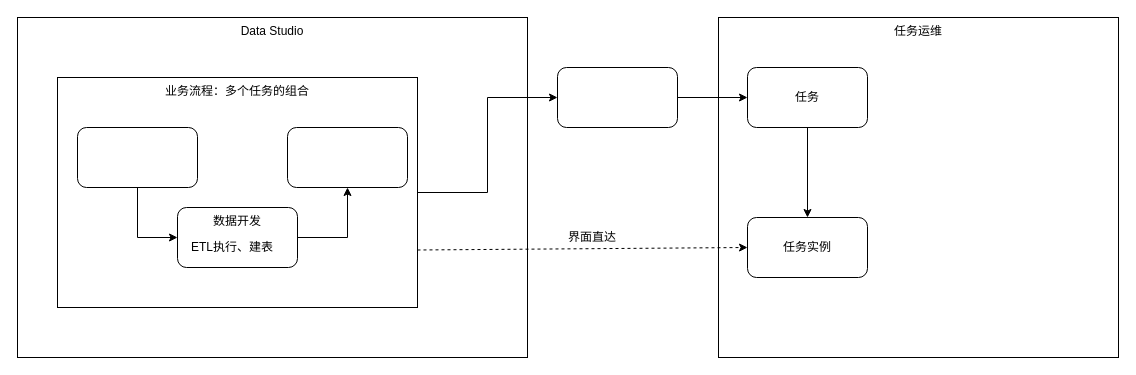
The diagram is 1136 pixels wide and 375 high, and some of its shapes have lost their labels. Each missing label, with the centre of its shape:
"任务发布" goes at pixel 617 97.
"数据服务" goes at pixel 347 157.
"数据集成" goes at pixel 137 157.
